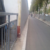zebra: (2, 5, 37, 37)
